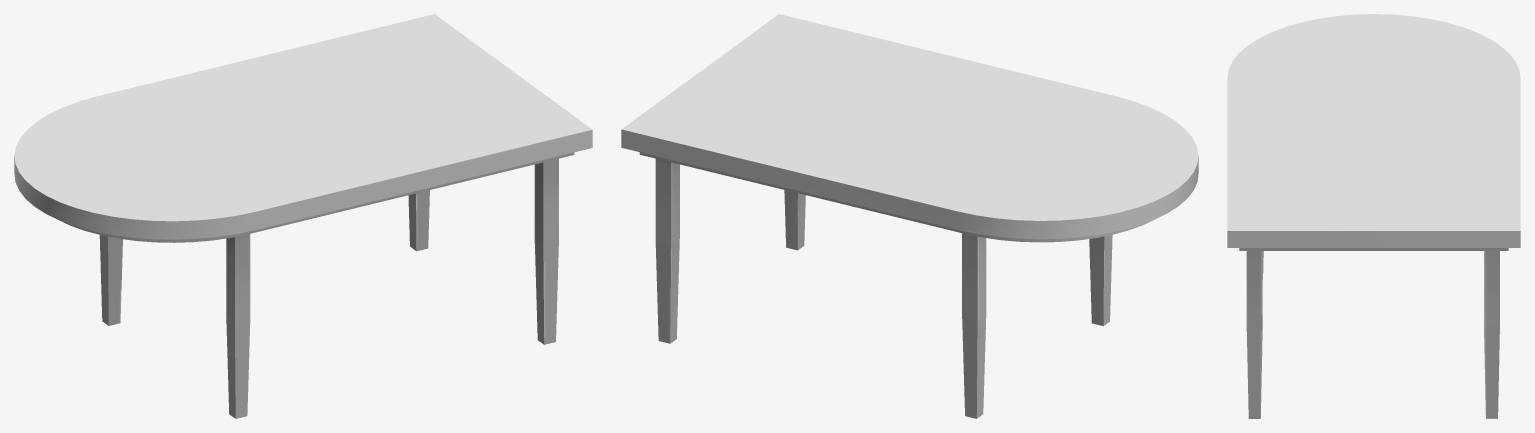
File: table.glb
The picture shows the model from 3 angles, left to right: view 1: azimuth 30°, elevation 25°; view 2: azimuth 150°, elevation 25°; view 3: azimuth 270°, elevation 25°; orthographic projection. The views are drawn at different scales.
Visible parts, largest first — view 1: table_2; view 2: table_2; view 3: table_2.
Part boxes in pixels (bbox=[...]): table_2: bbox=[14, 14, 592, 418]; table_2: bbox=[621, 14, 1198, 418]; table_2: bbox=[1227, 14, 1520, 418].
Size of the model in its own units: 1.4 by 0.6 by 0.8.
1 material, 1 textured.
